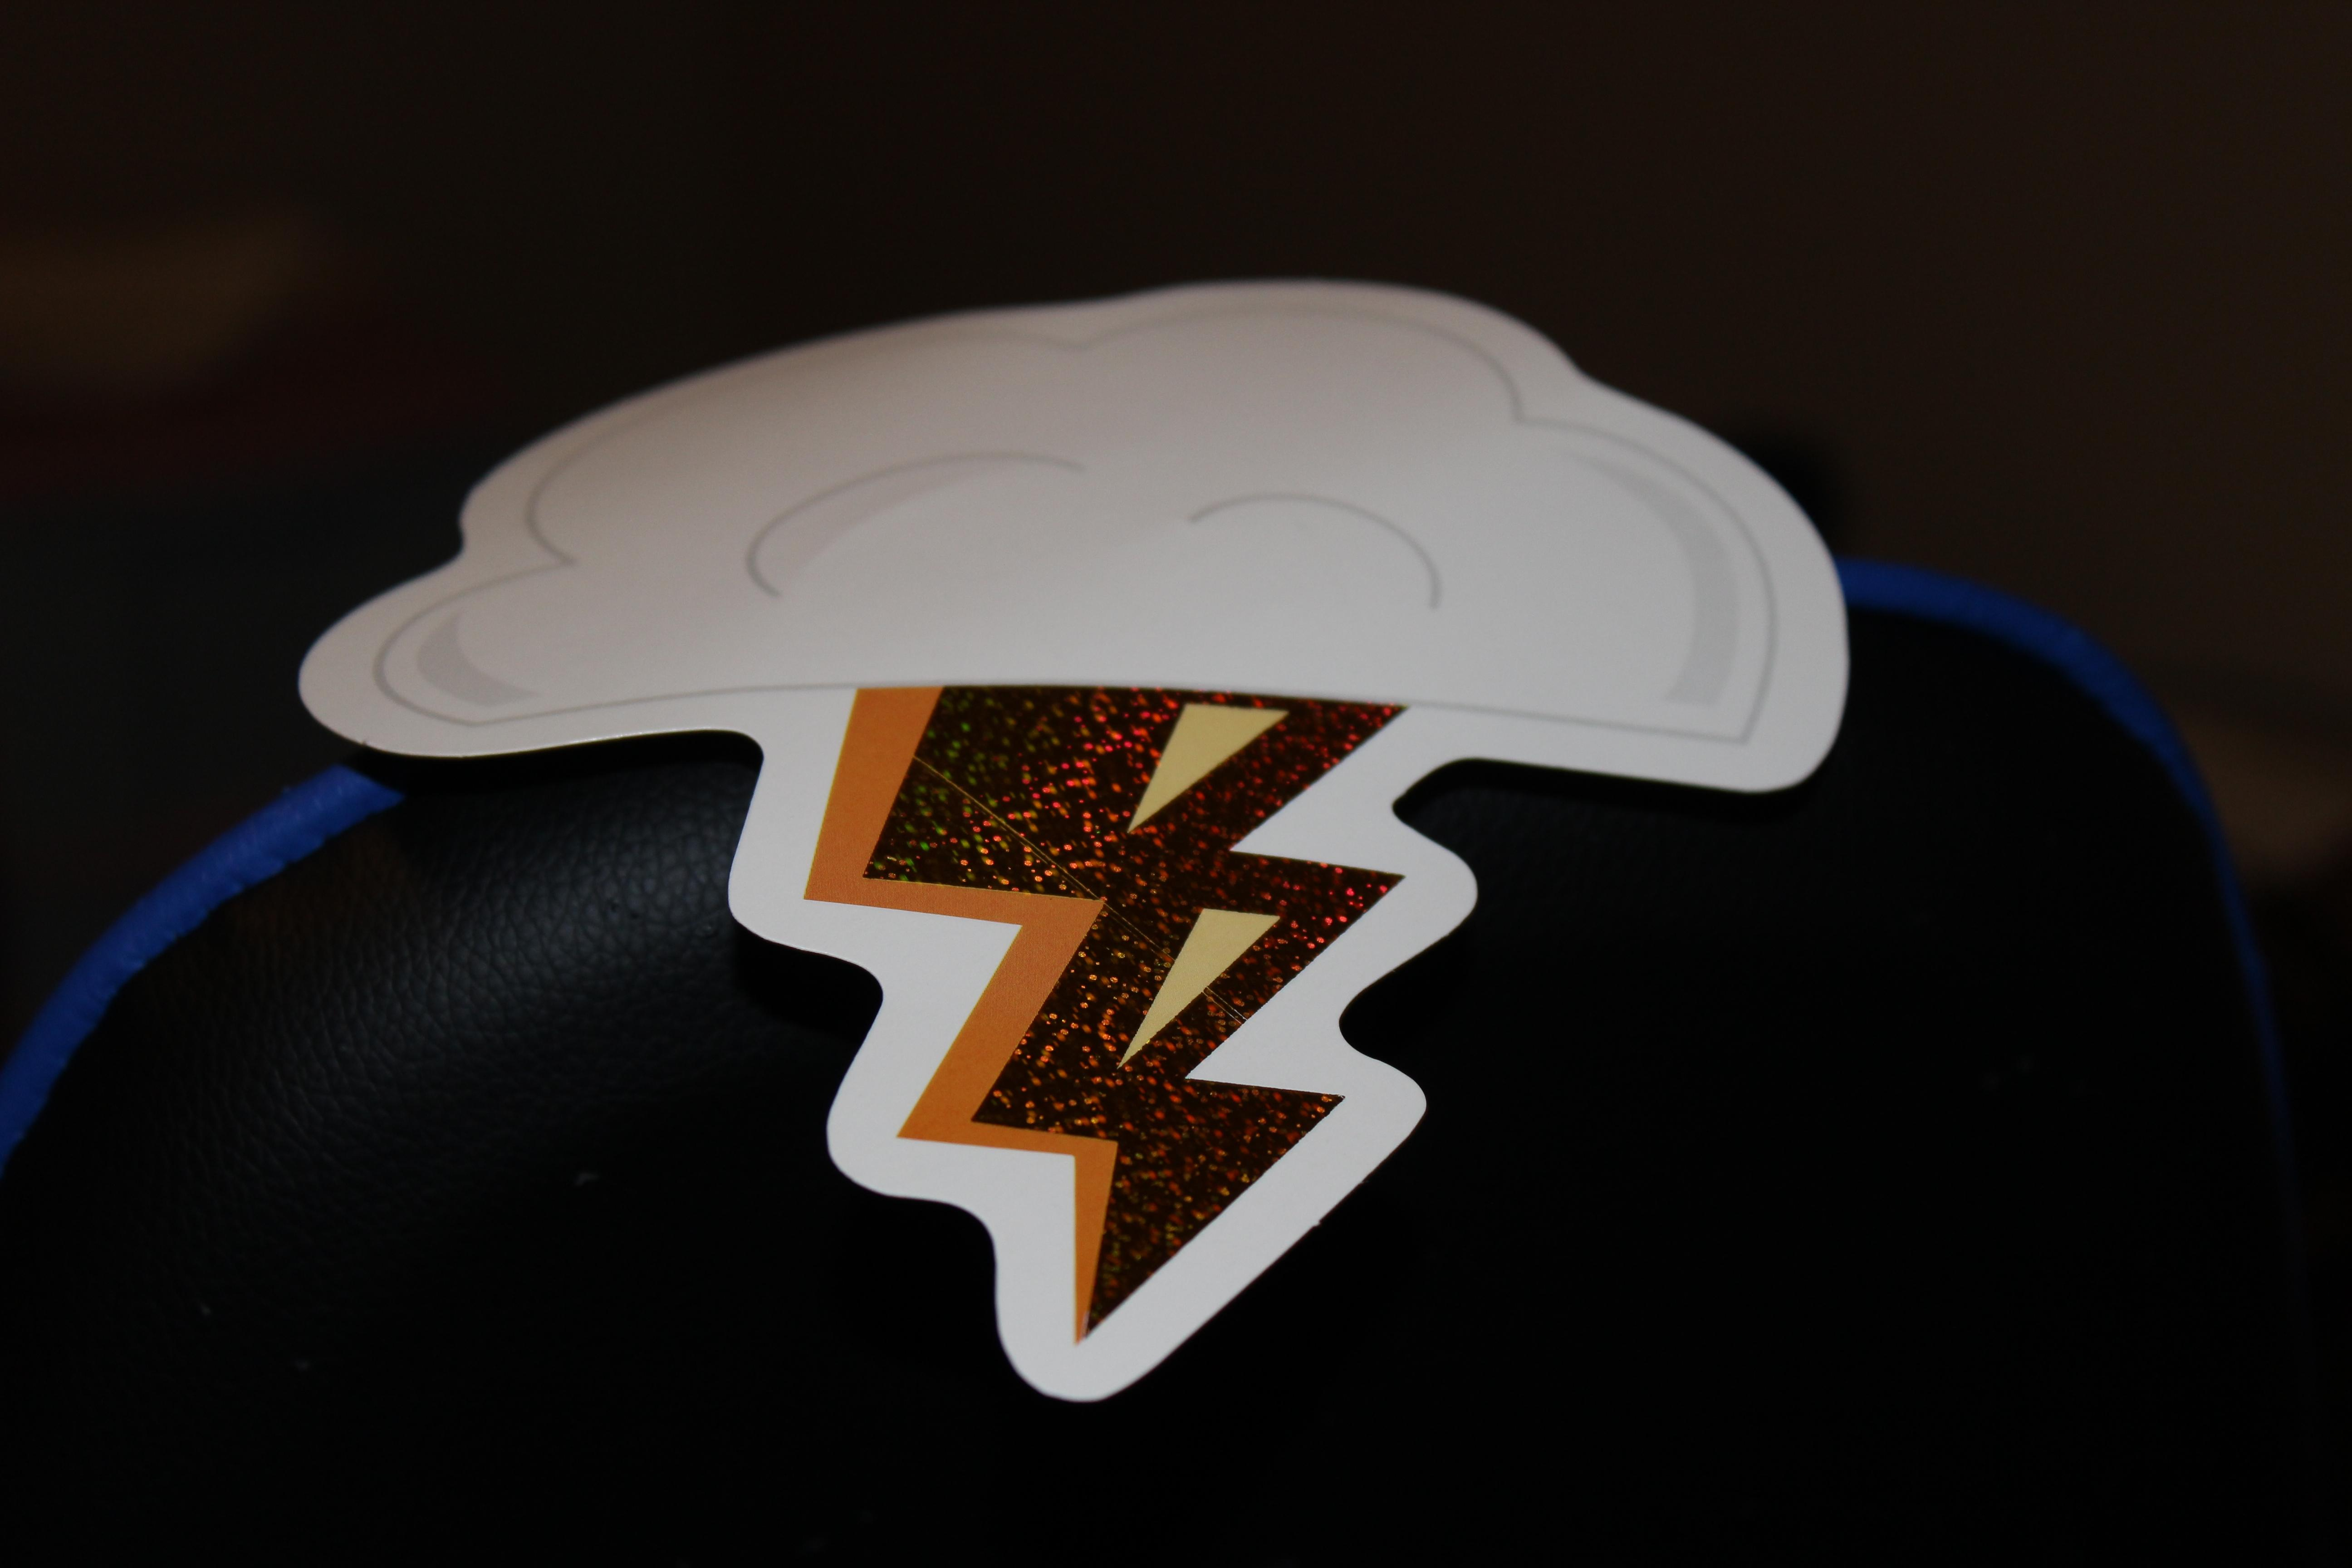cloudSign: (262, 235, 1885, 1466)
